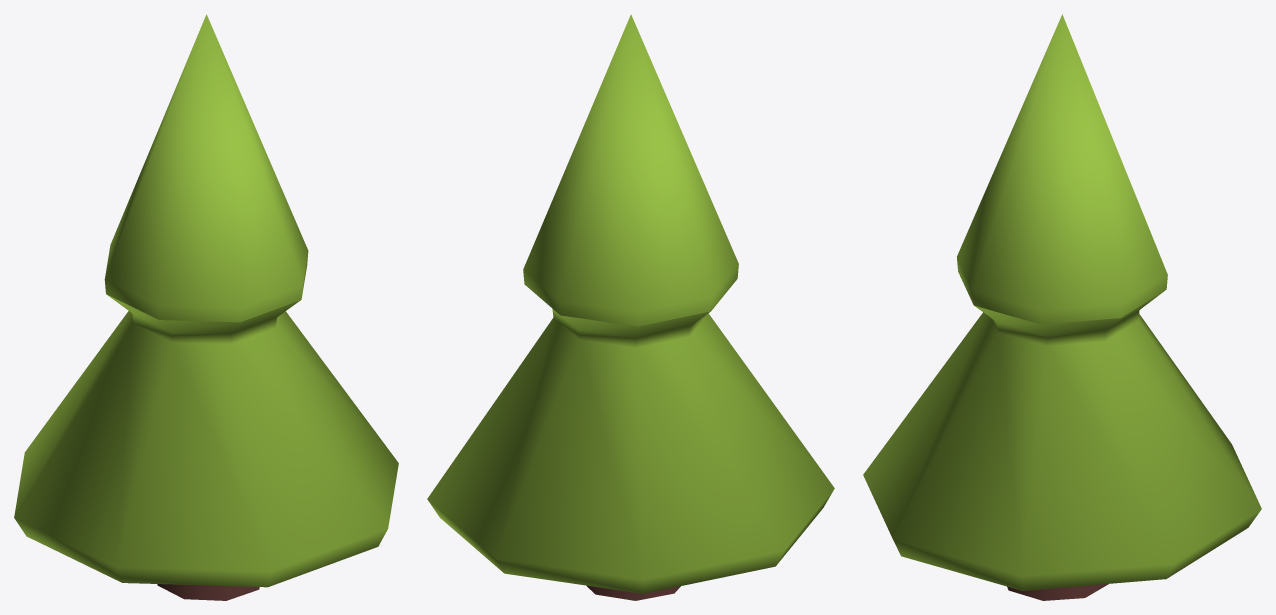
File: PineTreeTwo.fbx
3 renders of one model, left to right at view 1: azimuth 30°, elevation 25°; view 2: azimuth 150°, elevation 25°; view 3: azimuth 270°, elevation 25°, orthographic.
Visible parts, largest first — view 1: Cube.030; view 2: Cube.030; view 3: Cube.030.
Boxes of the visible parts, bbox=[...] form: Cube.030: bbox=[14, 14, 398, 600]; Cube.030: bbox=[427, 14, 834, 600]; Cube.030: bbox=[863, 14, 1261, 600].
Bounding box in the file's own units: 48.6 × 75.8 × 48.6.
